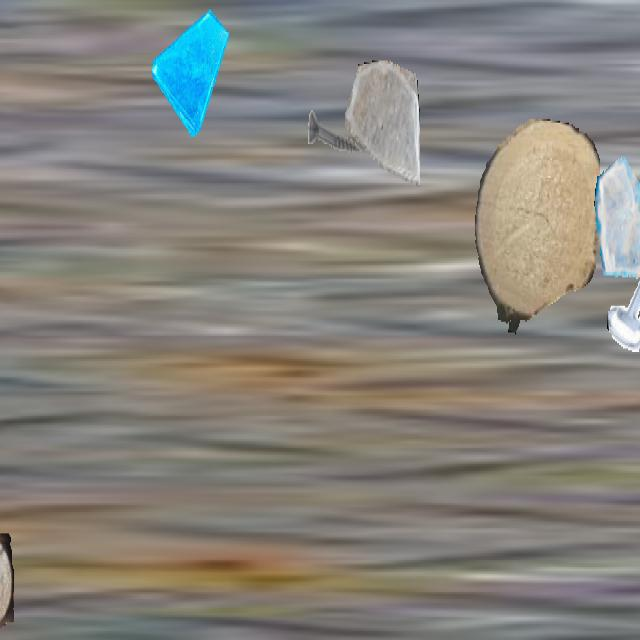glass: (152, 2, 228, 137), (345, 60, 419, 192), (594, 151, 640, 283)
metal: (306, 76, 368, 186), (607, 247, 640, 357)
wood: (475, 119, 599, 336), (0, 534, 13, 630)
